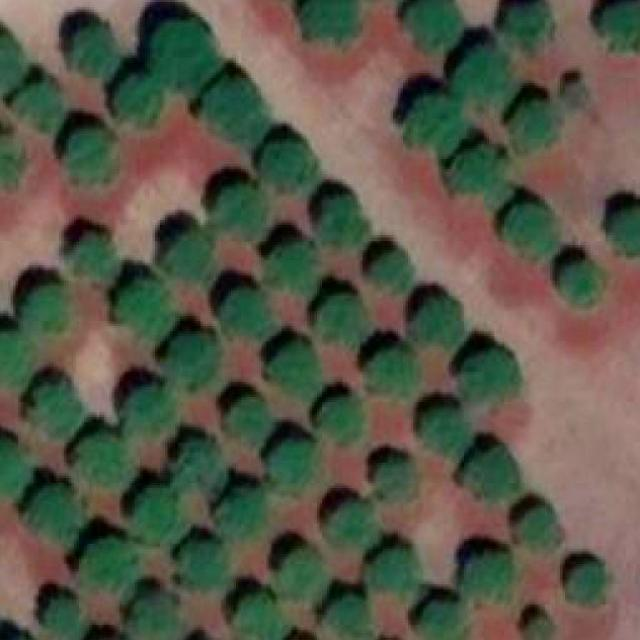Tree: (155, 20, 219, 94), (450, 48, 520, 106), (206, 81, 266, 147), (448, 146, 512, 204), (501, 204, 560, 266), (406, 95, 467, 154), (28, 382, 87, 440), (28, 483, 82, 544), (120, 278, 173, 339), (462, 351, 522, 402), (163, 334, 219, 388), (405, 0, 463, 50), (79, 539, 135, 589), (77, 434, 133, 483), (175, 441, 226, 494), (268, 344, 317, 398), (504, 0, 553, 54), (512, 101, 563, 152), (216, 187, 266, 238), (464, 450, 517, 498), (256, 144, 315, 187), (69, 132, 119, 182), (462, 552, 512, 602), (421, 409, 472, 458), (302, 0, 360, 43), (413, 298, 464, 346), (277, 549, 325, 597), (322, 294, 368, 344), (268, 245, 317, 291), (114, 75, 160, 123), (165, 232, 211, 280), (226, 400, 274, 446), (322, 198, 366, 248), (234, 596, 284, 640), (72, 27, 115, 78), (135, 488, 178, 539), (327, 596, 376, 640), (18, 83, 64, 129), (271, 443, 315, 491), (21, 283, 65, 331), (363, 351, 416, 390), (128, 384, 171, 432), (224, 289, 269, 334), (329, 503, 378, 544), (133, 594, 176, 640), (370, 552, 418, 592), (224, 491, 267, 535), (180, 544, 226, 584), (0, 331, 33, 386), (519, 506, 560, 550), (315, 400, 358, 441), (418, 601, 463, 640), (77, 238, 117, 281), (602, 2, 640, 47), (0, 439, 28, 498), (562, 260, 601, 301), (570, 564, 606, 605), (373, 253, 413, 289), (612, 209, 640, 260), (0, 35, 23, 91), (378, 461, 416, 494), (0, 128, 20, 184), (44, 599, 77, 628), (524, 619, 552, 640), (563, 83, 588, 106)
